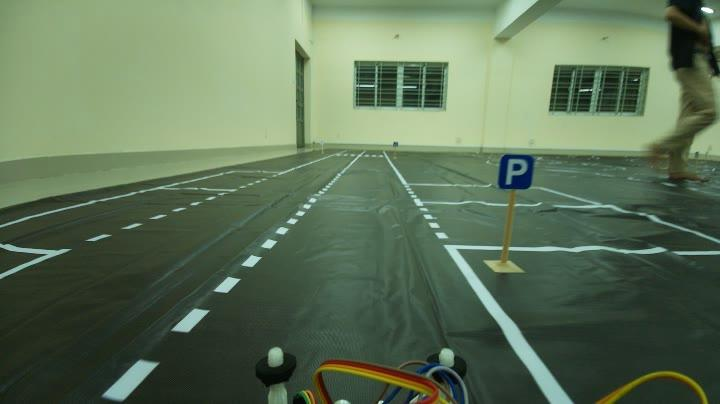parking: (494, 152, 542, 197)
